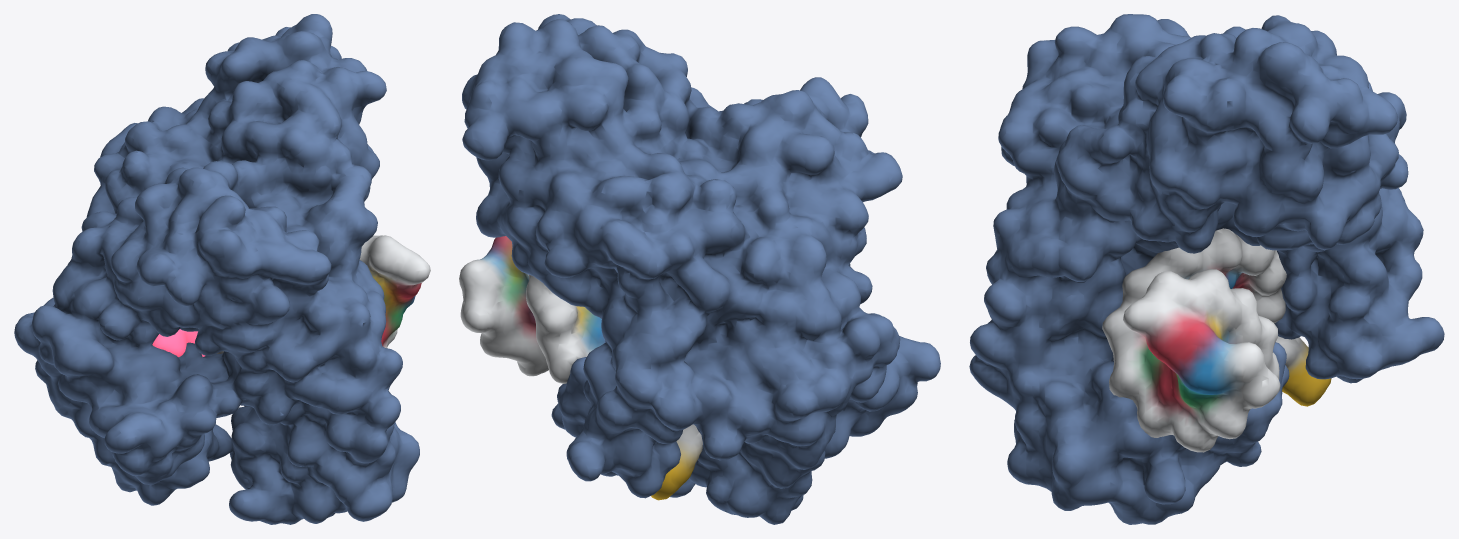
The model's file is 3KTQ.glb.
3 renders of one model, left to right at view 1: azimuth 30°, elevation 25°; view 2: azimuth 150°, elevation 25°; view 3: azimuth 270°, elevation 25°, orthographic. The views are drawn at different scales.
Parts seen in each view (by area): view 1: 3KTQ_protein, 3KTQ_dna, 3KTQ_ddntp; view 2: 3KTQ_protein, 3KTQ_dna; view 3: 3KTQ_protein, 3KTQ_dna.
Boxes of the visible parts, bbox=[...] form: 3KTQ_protein: bbox=[14, 14, 419, 524]; 3KTQ_dna: bbox=[205, 235, 430, 355]; 3KTQ_ddntp: bbox=[152, 329, 205, 357]; 3KTQ_protein: bbox=[462, 14, 940, 524]; 3KTQ_dna: bbox=[459, 236, 702, 500]; 3KTQ_protein: bbox=[969, 14, 1444, 524]; 3KTQ_dna: bbox=[1102, 228, 1331, 452].
Bounding box in the file's own units: 6.8 × 7.79 × 6.59.
